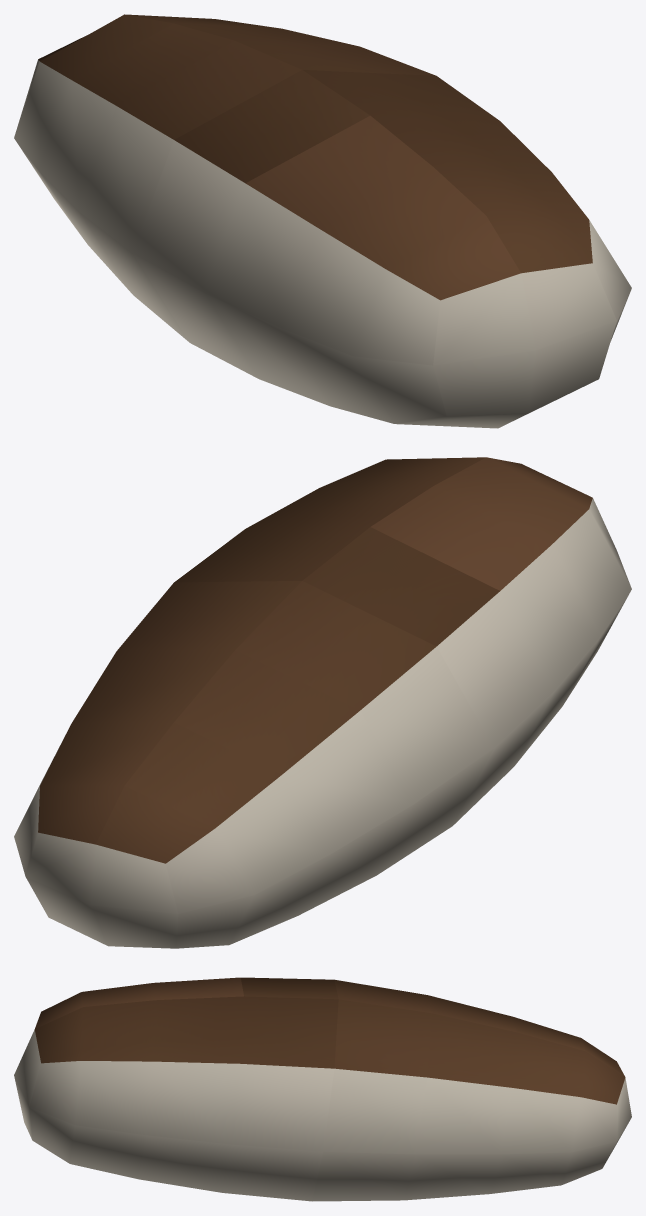
File: SM_Deer_Tail.fbx
The picture shows the model from 3 angles, top to bottom: view 1: azimuth 30°, elevation 25°; view 2: azimuth 150°, elevation 25°; view 3: azimuth 270°, elevation 25°; orthographic projection. The views are drawn at different scales.
Visible parts, largest first — view 1: SM_Deer_Tail; view 2: SM_Deer_Tail; view 3: SM_Deer_Tail.
Boxes of the visible parts, x1=… form: SM_Deer_Tail: x1=14, y1=14, x2=631, y2=428; SM_Deer_Tail: x1=14, y1=457, x2=631, y2=948; SM_Deer_Tail: x1=14, y1=977, x2=631, y2=1201.
Size of the model in its own units: 0.2536 by 0.1795 by 0.5413.
1 material, 1 textured.
